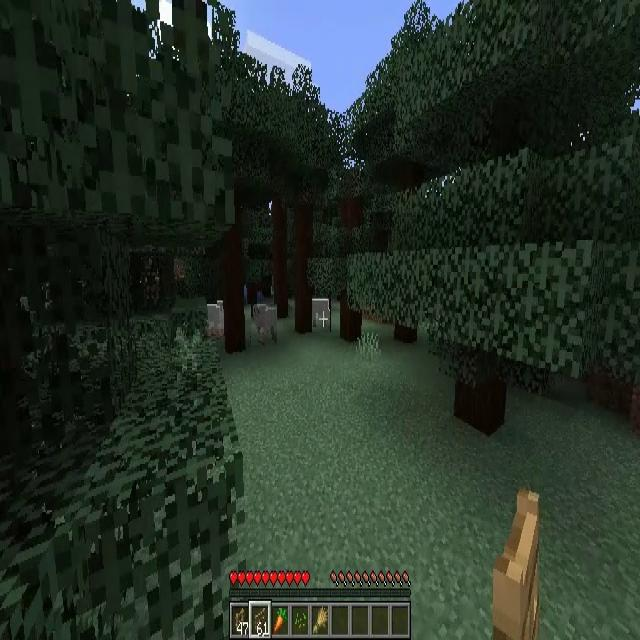sheep: (251, 304, 277, 345), (206, 300, 225, 340), (312, 295, 331, 332)
